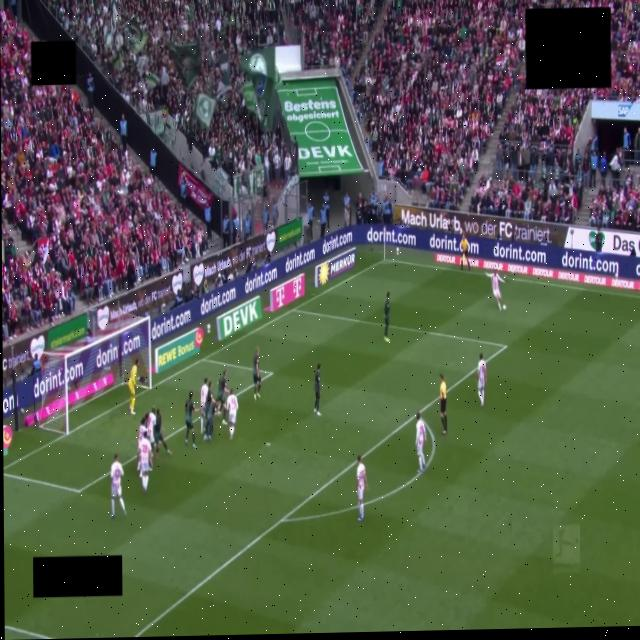ball: (502, 305, 505, 310)
player: (110, 453, 126, 518), (154, 410, 171, 456), (357, 456, 368, 521), (217, 368, 229, 426), (226, 389, 239, 440), (415, 413, 426, 473), (139, 438, 151, 492), (487, 272, 504, 310), (128, 358, 139, 414), (202, 380, 215, 424), (185, 392, 195, 449), (203, 396, 215, 441), (137, 418, 146, 472), (253, 347, 261, 400), (478, 353, 486, 406), (201, 378, 208, 434), (146, 408, 155, 449), (314, 364, 321, 416), (384, 292, 390, 342)
referee: (440, 374, 447, 435)
